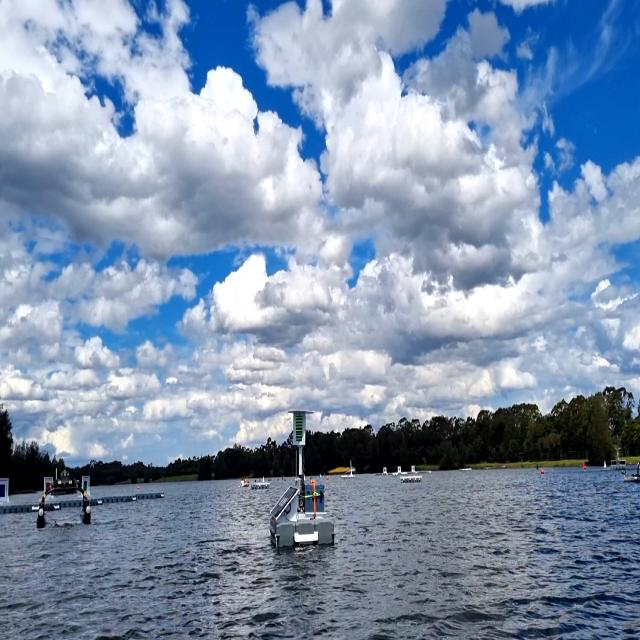led: (295, 412, 304, 443)
